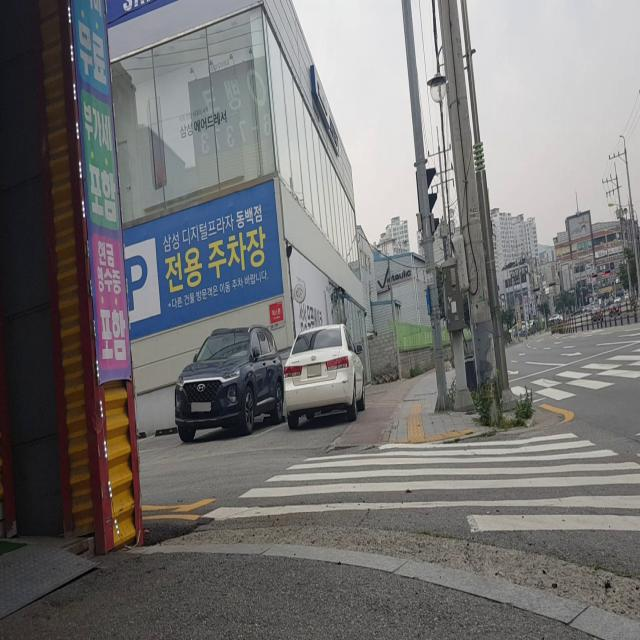횡단보도: (199, 429, 640, 536), (511, 345, 640, 403)
